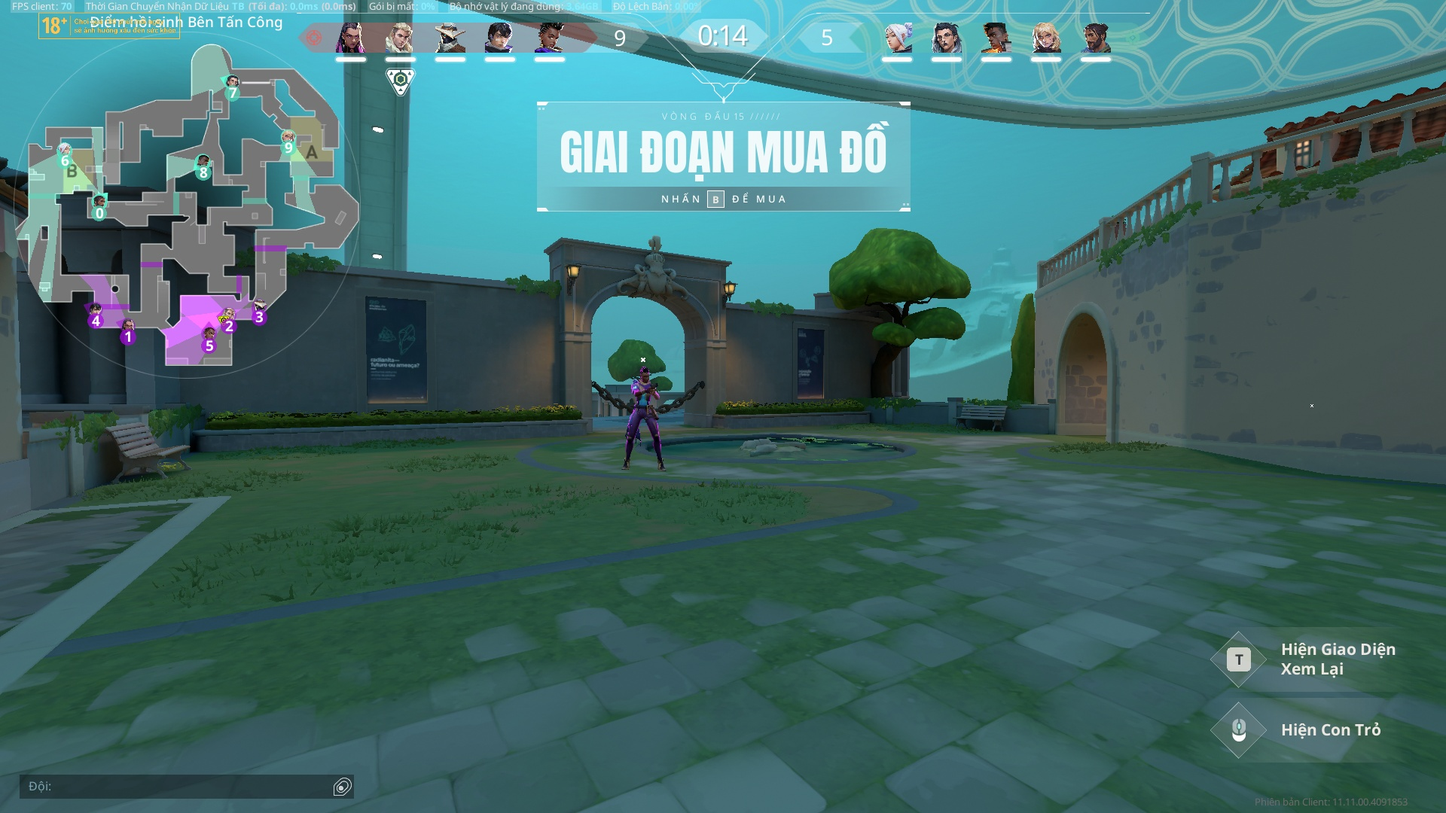body: (630, 380, 658, 410)
head: (639, 367, 654, 383)
